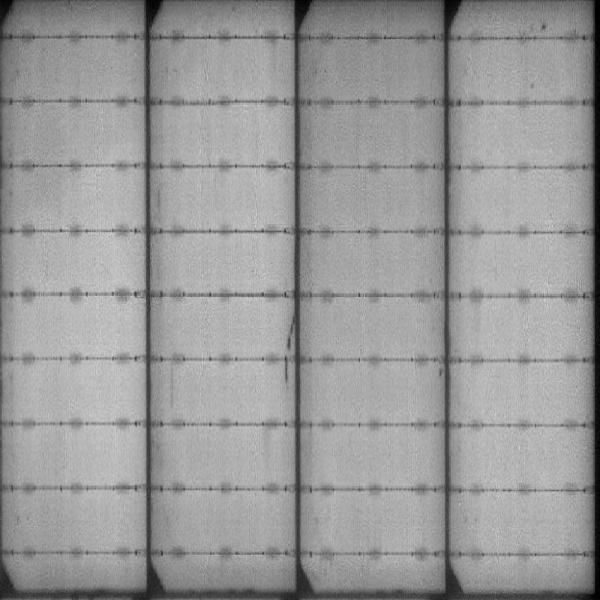scratch: (284, 315, 296, 380)
